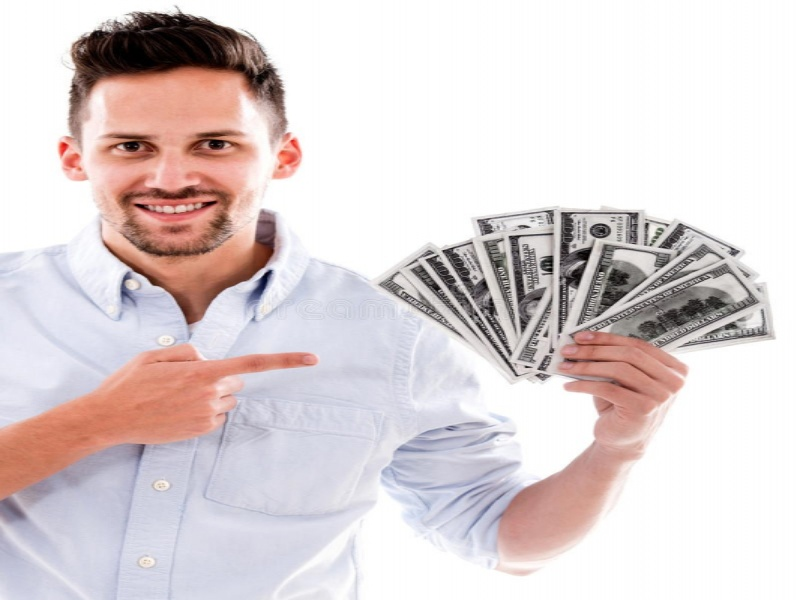cash: (372, 204, 776, 384)
person: (1, 11, 689, 600)
